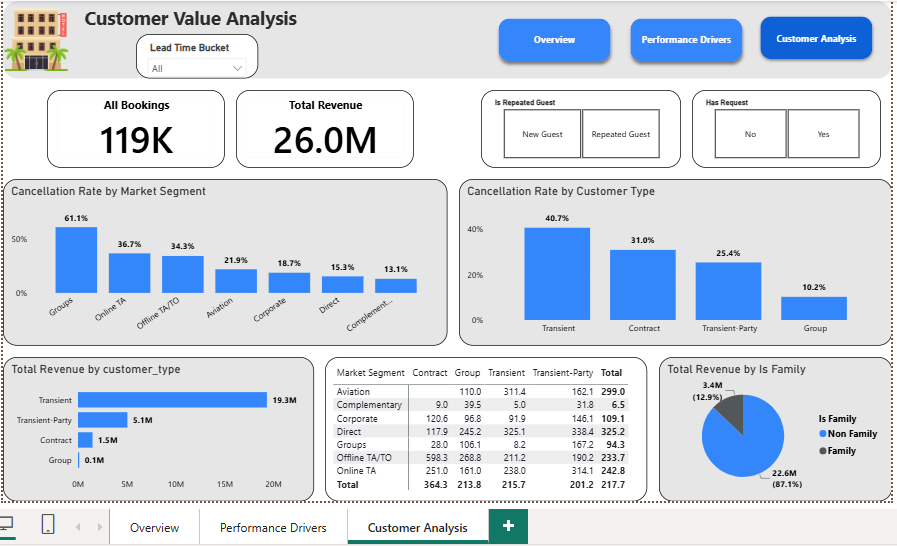

What the dashboard file says about the page in this screenshot:
{"tool":"powerbi","page":{"name":"Customer Analysis","canvas":[1280,720],"ordinal":2},"visuals":[{"type":"shape","box":[0,0,1280,112],"z":0},{"type":"barChart","fields":{"Y":["_Measures.Total Revenue"],"Category":["Fact_Bookings.customer_type"]},"box":[0,512,448,208],"z":1000},{"type":"pieChart","fields":{"Y":["_Measures.Total Revenue"],"Category":["Fact_Bookings.is_family"]},"box":[944,512,336,208],"z":2000},{"type":"pivotTable","fields":{"Rows":["Dim_MarketSegment.market_segment"],"Columns":["Fact_Bookings.customer_type"],"Values":["_Measures.Revenue Per Bookking"]},"box":[464,512,464,208],"z":3000},{"type":"columnChart","title":"Cancellation Rate by Market Segment","fields":{"Category":["Fact_Bookings.market_segment"],"Y":["_Measures.Cancellation Rate"]},"box":[0,256,640,240],"z":4000},{"type":"columnChart","title":"Cancellation Rate by Customer Type","fields":{"Category":["Fact_Bookings.customer_type"],"Y":["_Measures.Cancellation Rate"]},"box":[656,256,624,240],"z":5000},{"type":"cardVisual","fields":{"Data":["_Measures.All Bookings"]},"box":[64,128,256,112],"z":6000},{"type":"cardVisual","fields":{"Data":["_Measures.Total Revenue"]},"box":[336,128,256,112],"z":7000},{"type":"slicer","fields":{"Values":["Fact_Bookings.Has_Request"]},"box":[992,128,272,112],"z":8000},{"type":"slicer","fields":{"Values":["Fact_Bookings.is_repeated_guest"]},"box":[688,128,288,112],"z":9000},{"type":"textbox","box":[112,0,448,64],"z":10000},{"type":"pageNavigator","box":[704,16,560,80],"z":11000},{"type":"image","box":[0,0,96,112],"z":12000},{"type":"slicer","fields":{"Values":["Fact_Bookings.Lead_Time_Bucket"]},"box":[192,48,176,64],"z":12001}]}

Visuals, with their boxes in screenshot pixels (x1, y1, x2, y2):
shape: 2/0/887/77
barChart - _Measures.Total Revenue x Fact_Bookings.customer_type: 2/354/312/498
pieChart - _Measures.Total Revenue x Fact_Bookings.is_family: 655/354/887/498
pivotTable - Dim_MarketSegment.market_segment x Fact_Bookings.customer_type: 323/354/644/498
"Cancellation Rate by Market Segment" columnChart: 2/177/445/343
"Cancellation Rate by Customer Type" columnChart: 456/177/887/343
cardVisual - _Measures.All Bookings: 47/88/223/166
cardVisual - _Measures.Total Revenue: 235/88/411/166
slicer - Fact_Bookings.Has_Request: 688/88/876/166
slicer - Fact_Bookings.is_repeated_guest: 478/88/677/166
textbox: 80/0/389/44
pageNavigator: 489/11/876/66
image: 2/0/69/77
slicer - Fact_Bookings.Lead_Time_Bucket: 135/33/257/77
